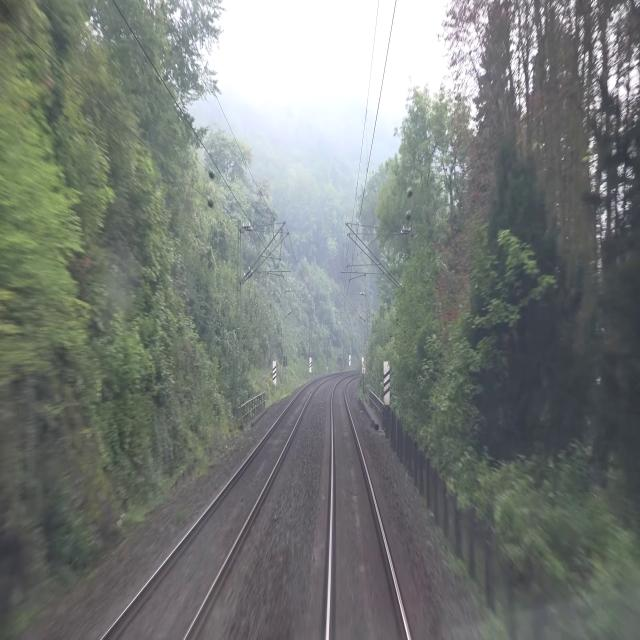rail-track: (105, 385, 313, 639), (330, 380, 407, 639)
